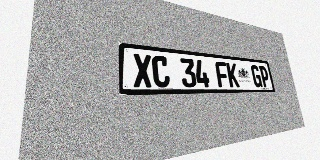3: (180, 58, 197, 87)
4: (194, 59, 210, 87)
C: (151, 55, 170, 87)
F: (215, 61, 230, 87)
G: (250, 65, 263, 87)
K: (226, 62, 240, 87)
P: (259, 66, 270, 87)
X: (132, 53, 153, 87)
